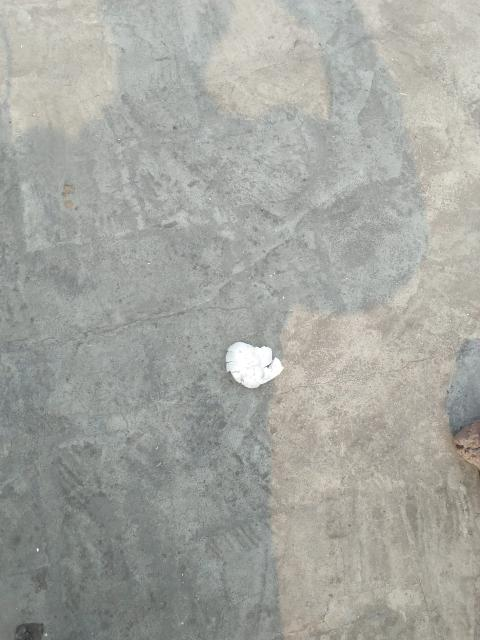Roto: (224, 340, 284, 389)
